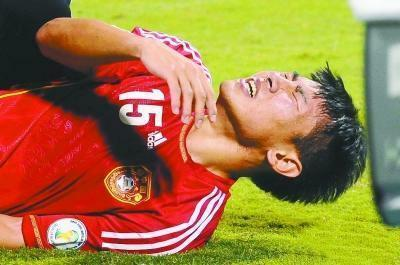Fall-Detected: (0, 0, 385, 263)
